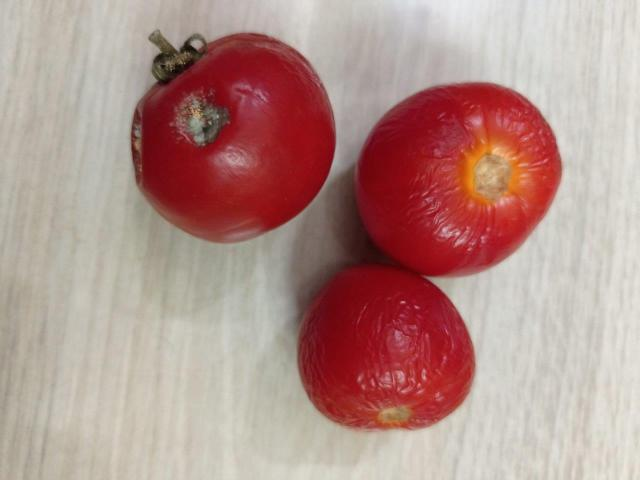defect: (126, 23, 336, 244), (353, 79, 567, 279), (296, 258, 479, 433)
